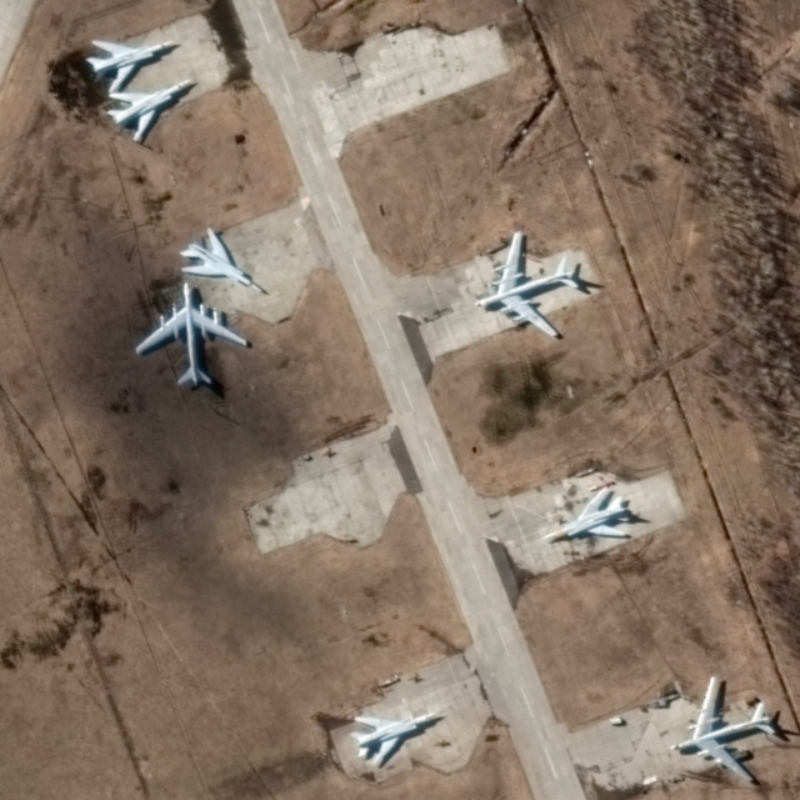A12: (105, 78, 195, 145), (178, 226, 266, 294), (347, 711, 446, 769), (84, 38, 175, 95), (542, 486, 633, 543)
A17: (134, 281, 249, 388), (473, 229, 582, 338), (669, 674, 777, 783)
